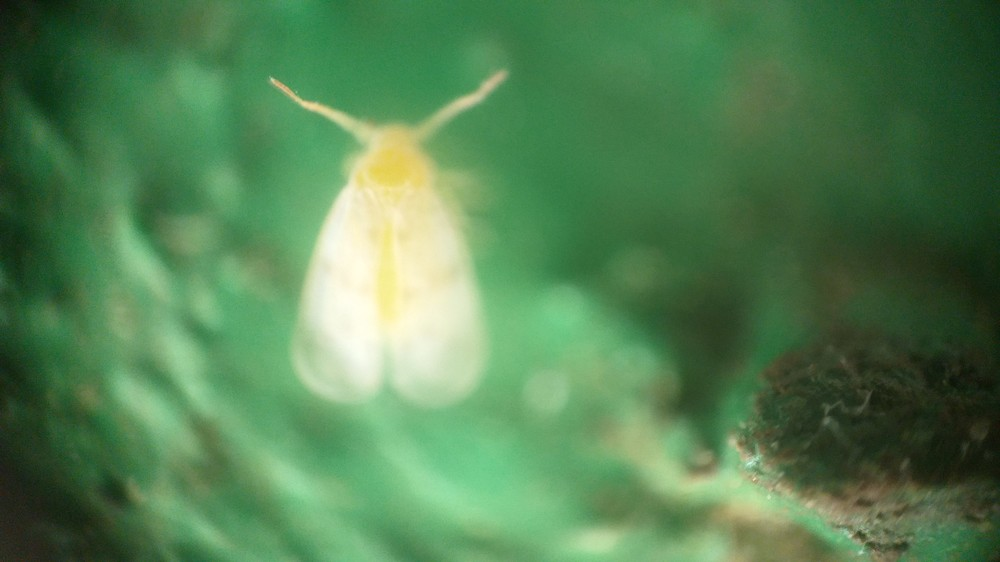Mosca Blanca: (251, 56, 550, 427)
